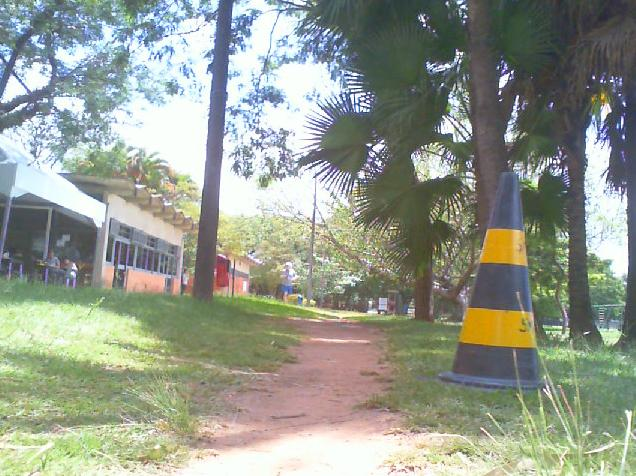0 cone: (437, 170, 546, 390)
